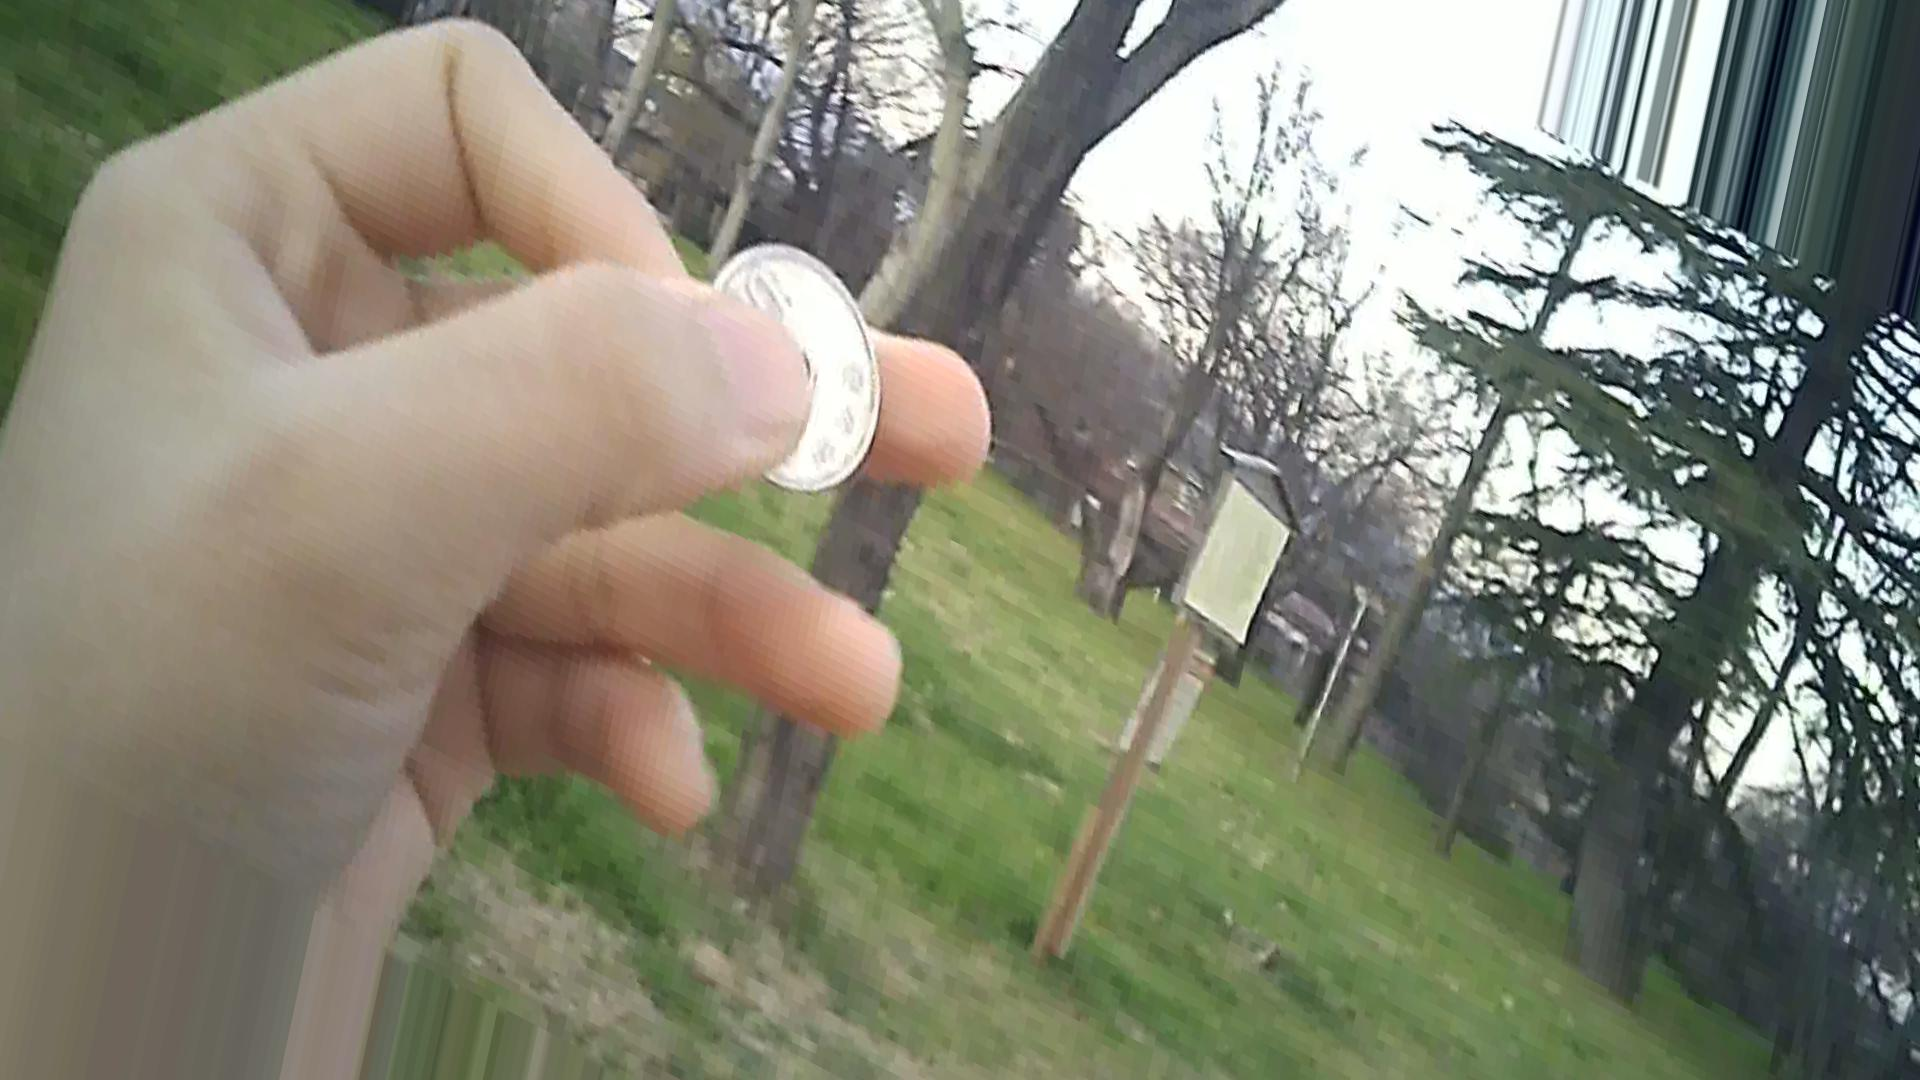50 Yen: (702, 225, 895, 502)
